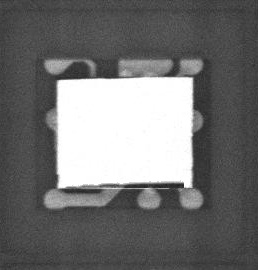DIE_BROKEN: (64, 180, 186, 189)
